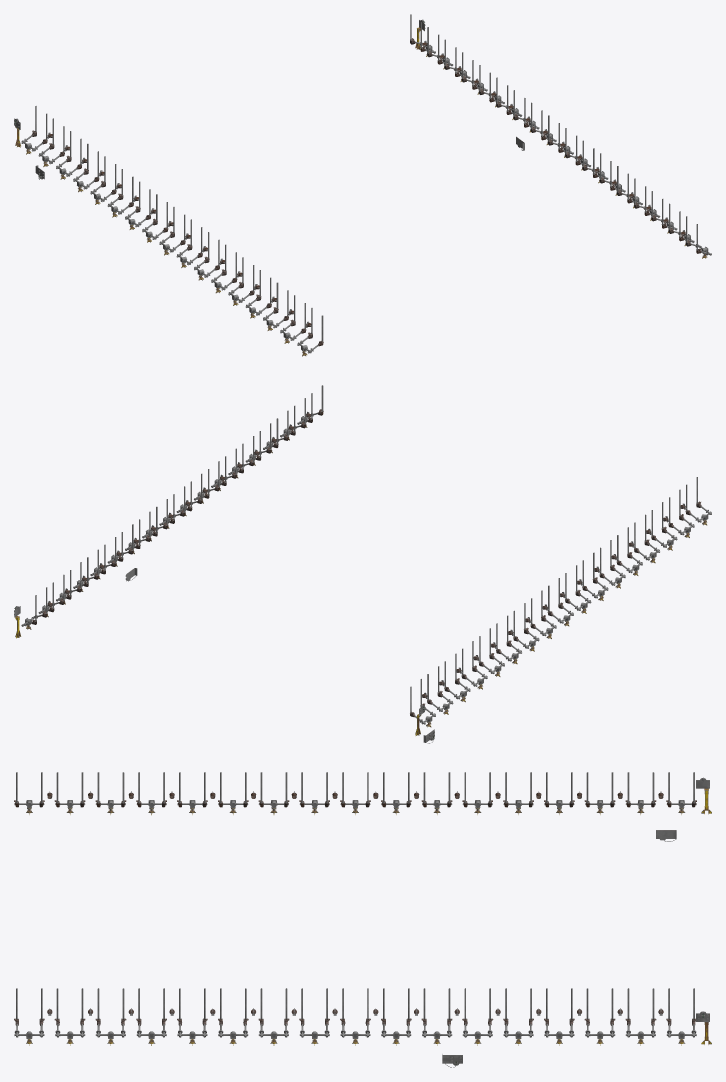
The model's file is KlapanTop.fbx.
The picture shows the model from 3 angles, top to bottom: view 1: azimuth 30°, elevation 25°; view 2: azimuth 150°, elevation 25°; view 3: azimuth 270°, elevation 25°; orthographic projection. The views are drawn at different scales.
Visible parts, largest first — view 1: Cylinder.161, Cylinder.342; view 2: Cylinder.161, Cylinder.342; view 3: Cylinder.161, Cylinder.342, Cube.053.
Boxes of the visible parts, x1=… form: Cylinder.161: x1=21, y1=14, x2=711, y2=356; Cylinder.342: x1=47, y1=40, x2=685, y2=327; Cylinder.161: x1=21, y1=385, x2=711, y2=727; Cylinder.342: x1=47, y1=411, x2=686, y2=698; Cylinder.161: x1=14, y1=772, x2=696, y2=1045; Cylinder.342: x1=47, y1=791, x2=663, y2=1015; Cube.053: x1=696, y1=777, x2=711, y2=1044.
Bounding box in the file's own units: 1561 × 228 × 1946.
2 materials, 2 textured.
